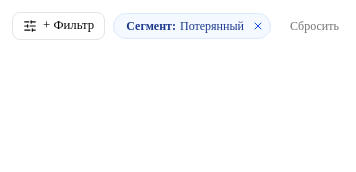
Test: FilterBar (amo/Bitrix-style panel) › removes an applied condition via the chip X
Expected: the text "Сегмент:" is shown, [126, 18, 176, 34]
Click the button named "Убрать фильтр Сегмент".
click(258, 26)  # box [250, 18, 266, 34]
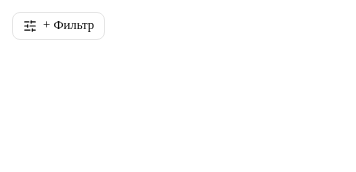
Expected: the button "Сегмент:" is gone
